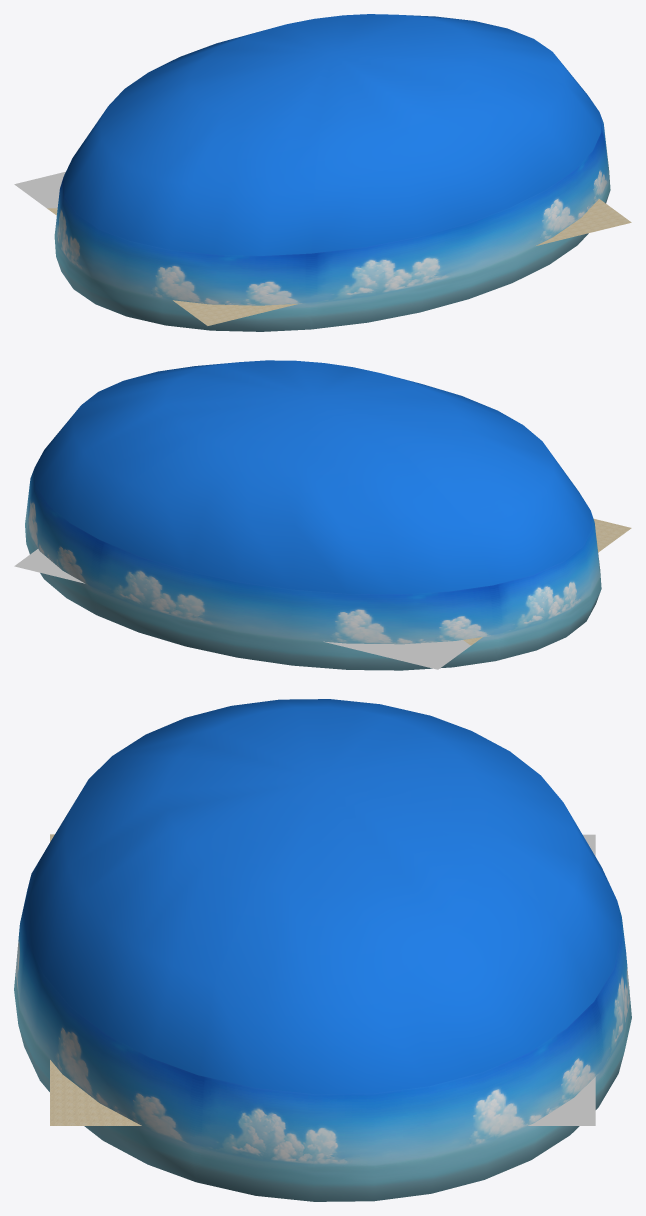
File: pref_sce_5v5_beach_tech_tutorial_001_lv0.fbx
3 renders of one model, top to bottom at view 1: azimuth 30°, elevation 25°; view 2: azimuth 150°, elevation 25°; view 3: azimuth 270°, elevation 25°, orthographic. The views are drawn at different scales.
Visible parts, largest first — view 1: pref_sm_beach_tutorial_skybox_lv3, sm_beach_tech_tutorialsea01a_lv0, sm_beach_tech_tutorialsea01b_lv0; view 2: pref_sm_beach_tutorial_skybox_lv3, sm_beach_tech_tutorialsea01b_lv0, sm_beach_tech_tutorialsea01a_lv0; view 3: pref_sm_beach_tutorial_skybox_lv3, sm_beach_tech_tutorialsea01a_lv0, sm_beach_tech_tutorialsea01b_lv0.
Part boxes in pixels (left/top/right/bottom): pref_sm_beach_tutorial_skybox_lv3: left=54, top=14, right=610, bottom=331; sm_beach_tech_tutorialsea01a_lv0: left=47, top=199, right=631, bottom=325; sm_beach_tech_tutorialsea01b_lv0: left=14, top=171, right=65, bottom=208; pref_sm_beach_tutorial_skybox_lv3: left=25, top=360, right=601, bottom=670; sm_beach_tech_tutorialsea01b_lv0: left=14, top=549, right=470, bottom=669; sm_beach_tech_tutorialsea01a_lv0: left=463, top=519, right=631, bottom=645; pref_sm_beach_tutorial_skybox_lv3: left=14, top=699, right=631, bottom=1201; sm_beach_tech_tutorialsea01a_lv0: left=50, top=834, right=141, bottom=1125; sm_beach_tech_tutorialsea01b_lv0: left=528, top=834, right=595, bottom=1125.
Size of the model in its own units: 594 by 190 by 432.
